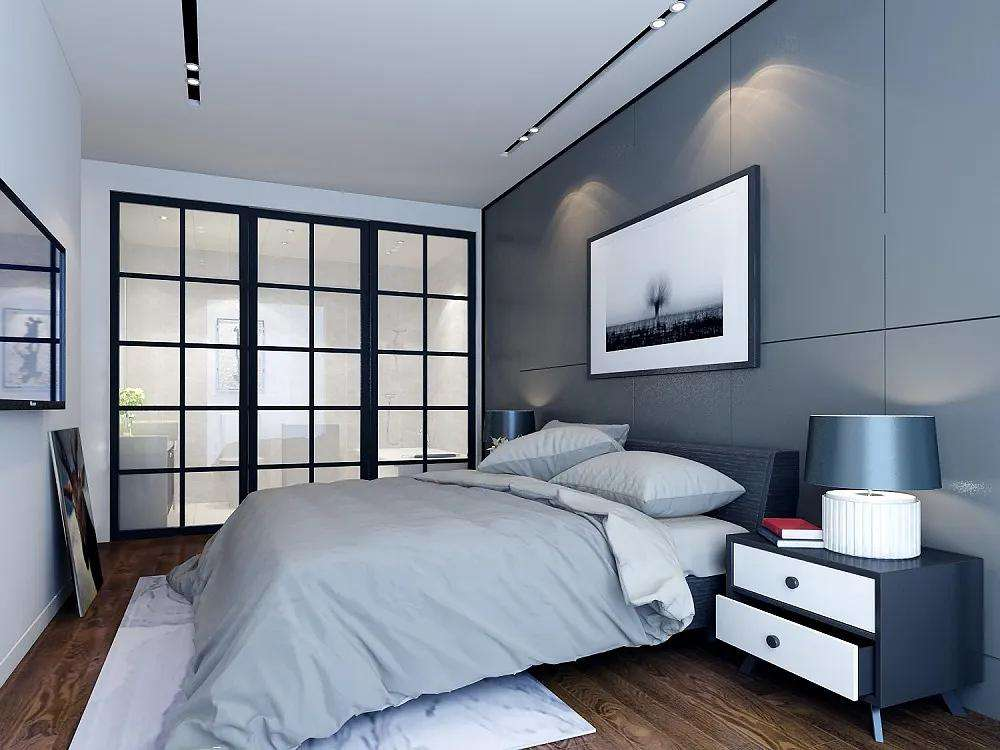床: (188, 460, 759, 722)
枕头: (482, 427, 744, 523)
灯: (797, 407, 942, 563), (171, 10, 203, 107)
